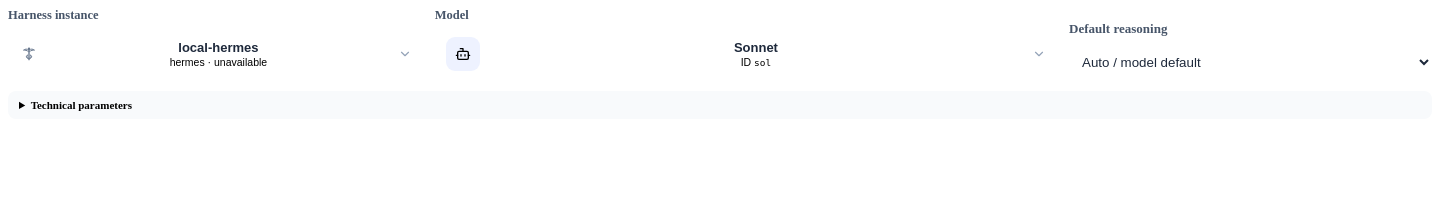
Test: persona harness route fields › keeps a same-epoch stale catalog selectable while the runtime is unavailable
Click the button with aria-label "Harness instance". click: point(215, 54)
box: [8,27,423,81]
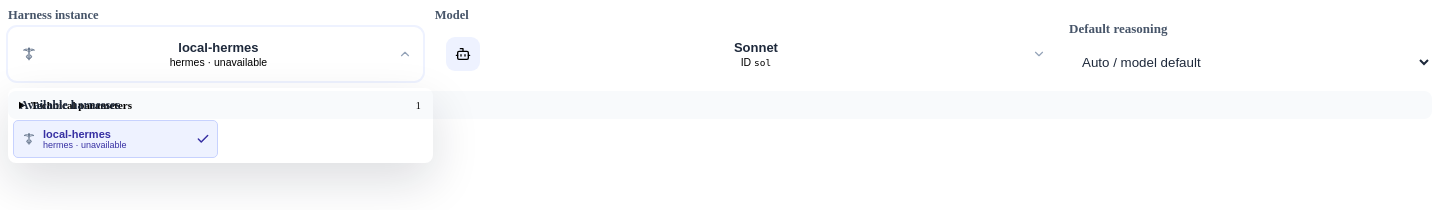
Expected: the option "local-hermes hermes · unavailable" is enabled, [13,120,218,158]
